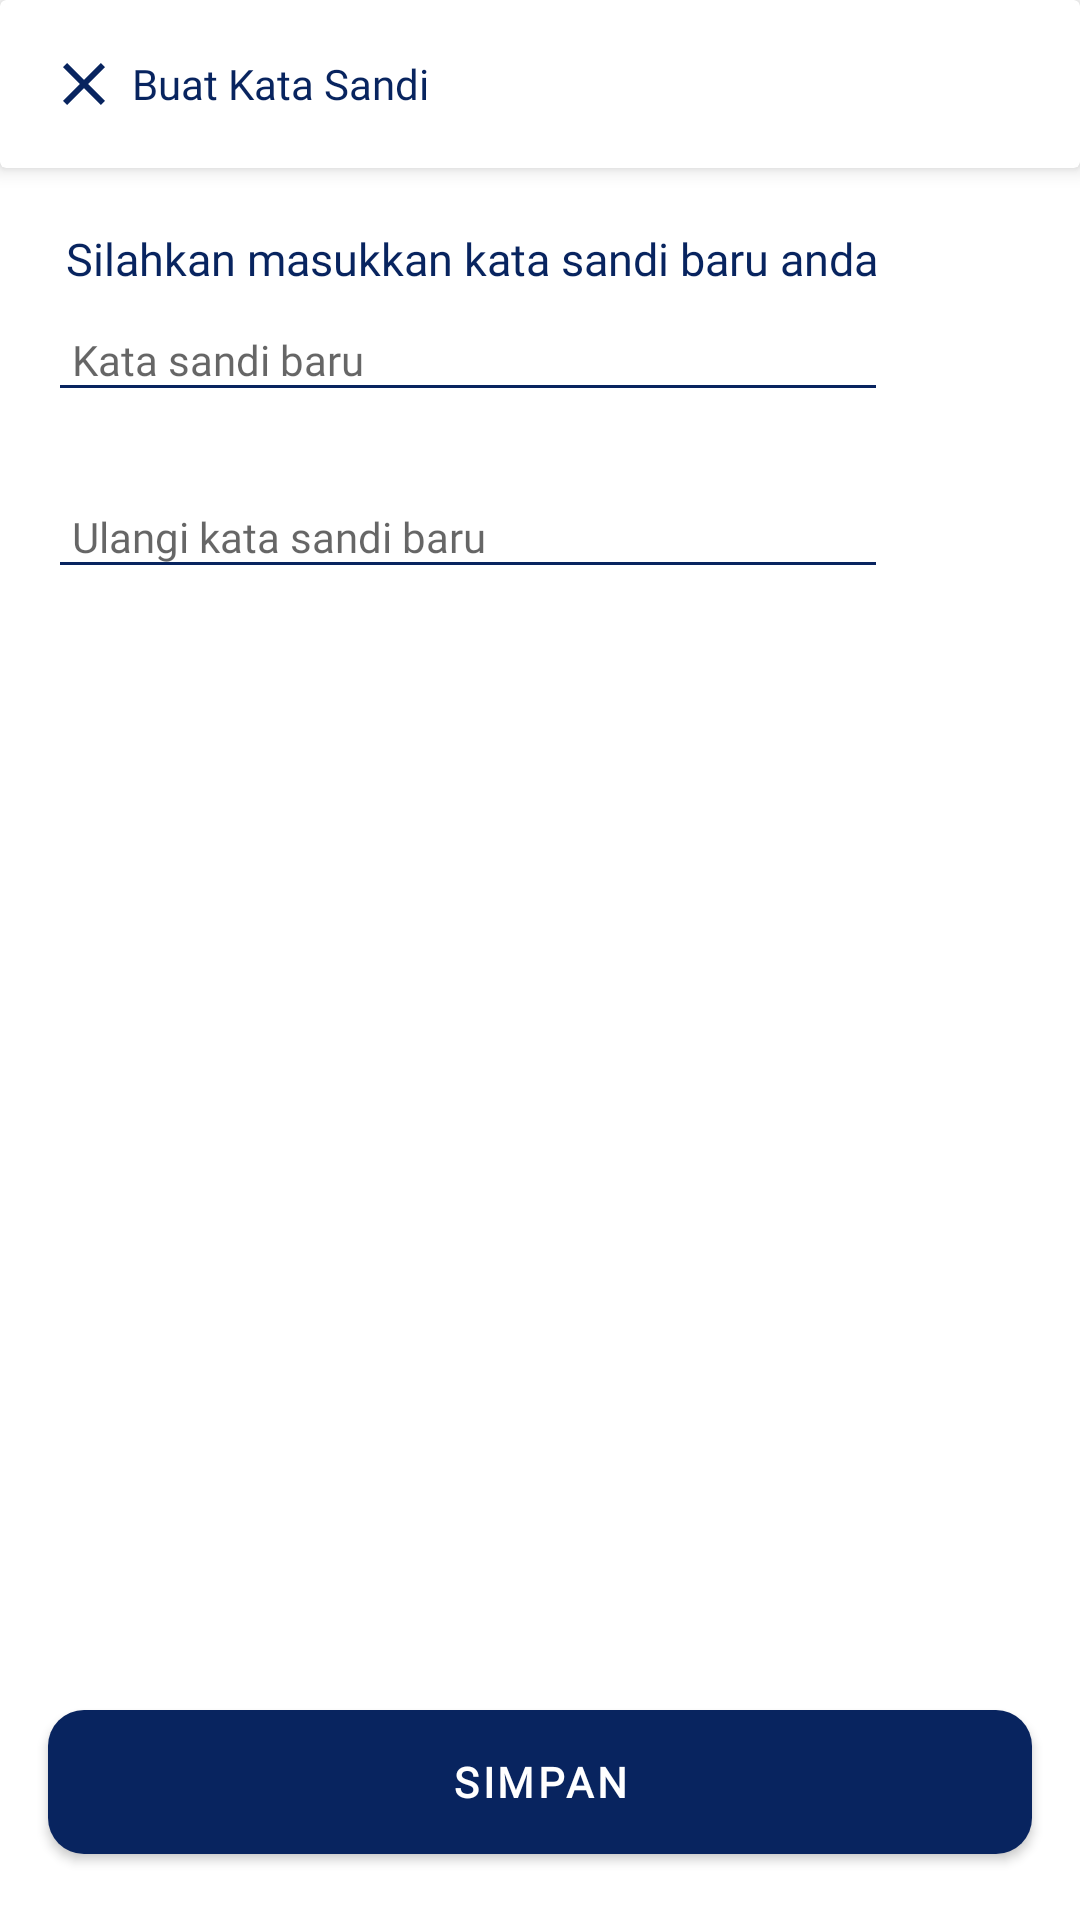

Where to tap for icons on this 1080 × 1920 app screen, as point (x, y):
Tutup: point (84, 84)
